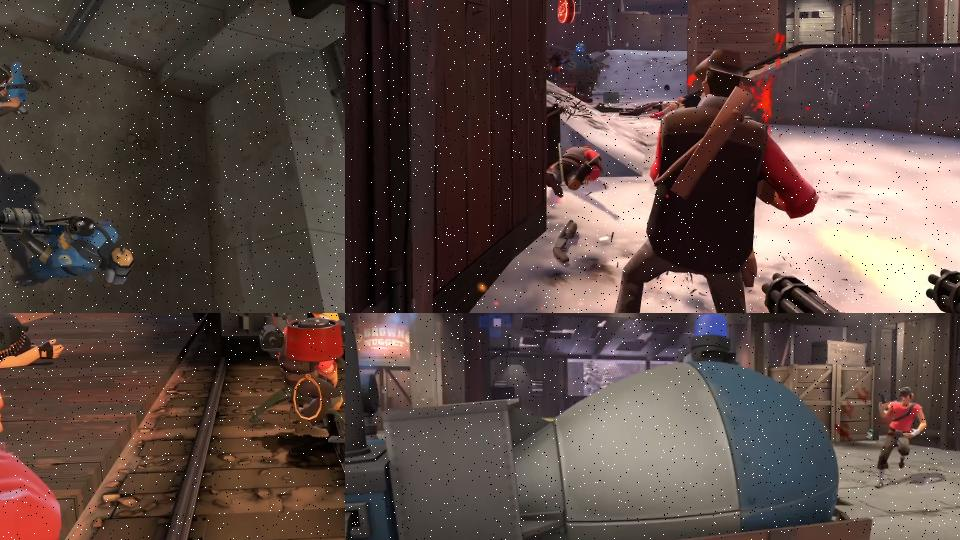Enemy: (605, 49, 819, 313), (0, 189, 143, 304), (276, 313, 344, 439), (872, 386, 928, 488), (0, 55, 46, 146), (546, 145, 604, 198), (0, 325, 65, 370), (619, 97, 685, 119)
